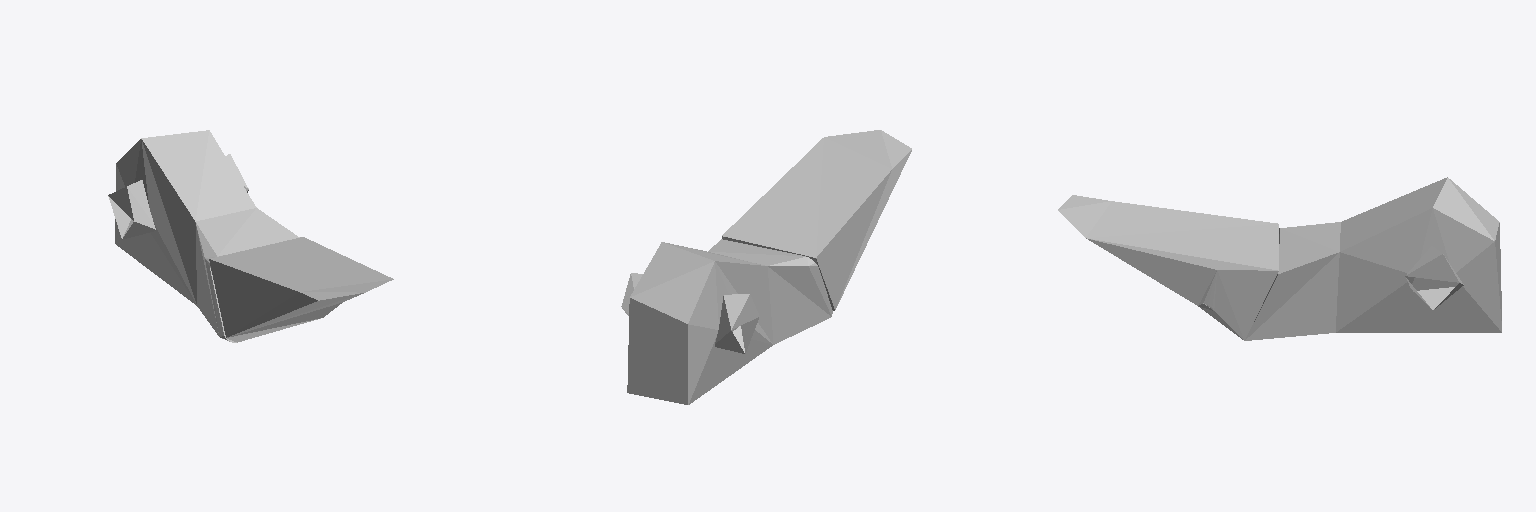
Rendered from right_collision_index_ip_mesh_mesh.obj.
The picture shows the model from 3 angles: view 1: azimuth 30°, elevation 25°; view 2: azimuth 150°, elevation 25°; view 3: azimuth 270°, elevation 25°; orthographic projection.
Size of the model in its own units: 0.0151 by 0.0162 by 0.0513.